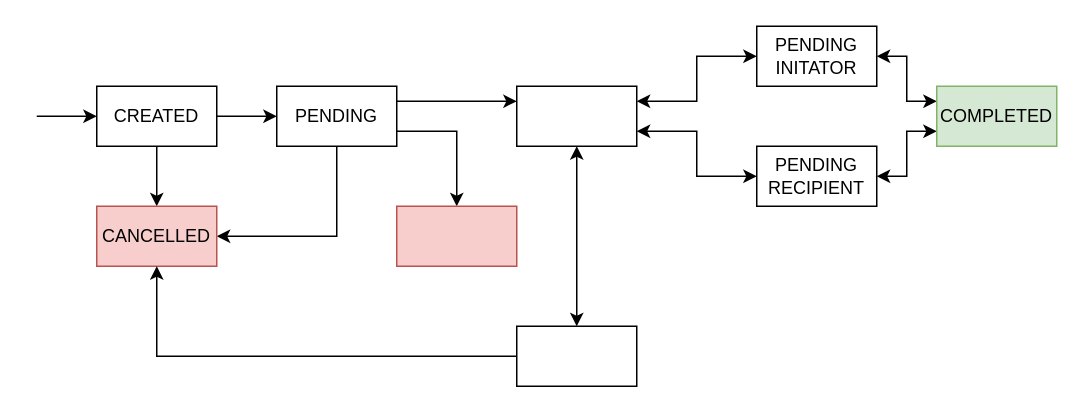
Some shapes in this 1083 by 413 pixel diagram are drawn without their labels. Here are the shapes that lost their labels. From the top down, the box of each, then its label:
(515, 85, 637, 146): ACCEPTED
(395, 205, 517, 266): REJECTED
(515, 325, 637, 386): CANCEL PENDING
